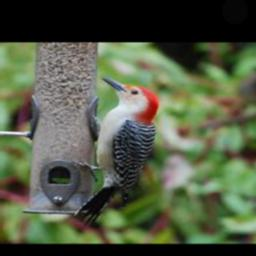Woodpecker: (69, 76, 159, 228)
